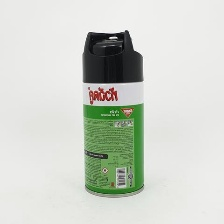aerosol_cans: (79, 27, 147, 200)
